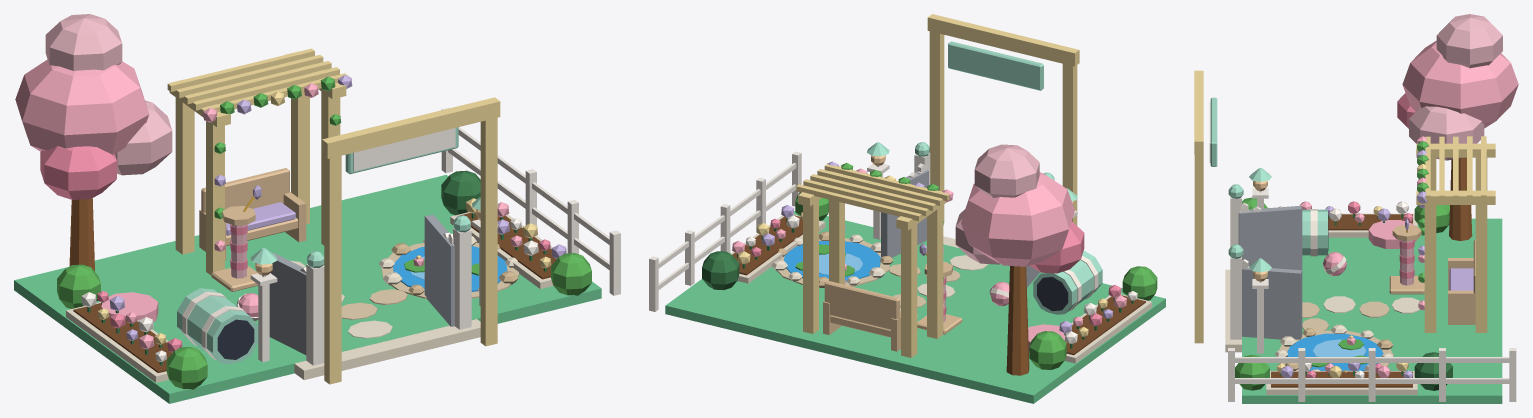
File: CleanACat_Area_Garden.fbx
The picture shows the model from 3 angles, left to right: view 1: azimuth 30°, elevation 25°; view 2: azimuth 150°, elevation 25°; view 3: azimuth 270°, elevation 25°; orthographic projection. The views are drawn at different scales.
Visible parts, largest first — view 1: CleanACat_Area_Garden, CleanACat_Area_Garden_Canopy, CleanACat_Area_Garden_Flowers, CleanACat_Area_Garden_Decor, CleanACat_Area_Garden_Gate_Barrier, CleanACat_Area_Garden_Screen, CleanACat_Area_Garden_Pond; view 2: CleanACat_Area_Garden, CleanACat_Area_Garden_Canopy, CleanACat_Area_Garden_Flowers, CleanACat_Area_Garden_Decor, CleanACat_Area_Garden_Sign_Decor, CleanACat_Area_Garden_Pond, CleanACat_Area_Garden_Gate_Barrier; view 3: CleanACat_Area_Garden, CleanACat_Area_Garden_Canopy, CleanACat_Area_Garden_Gate_Barrier, CleanACat_Area_Garden_Decor, CleanACat_Area_Garden_Flowers, CleanACat_Area_Garden_Pond, CleanACat_Area_Garden_Sign_Decor.
Part boxes in pixels (x1,y1,x2,y2): CleanACat_Area_Garden: (14,48,620,403); CleanACat_Area_Garden_Canopy: (15,14,172,199); CleanACat_Area_Garden_Flowers: (57,75,591,389); CleanACat_Area_Garden_Decor: (101,185,518,364); CleanACat_Area_Garden_Gate_Barrier: (269,215,454,354); CleanACat_Area_Garden_Screen: (353,128,455,171); CleanACat_Area_Garden_Pond: (393,246,507,291); CleanACat_Area_Garden: (649,14,1165,403); CleanACat_Area_Garden_Canopy: (955,144,1084,273); CleanACat_Area_Garden_Flowers: (702,161,1157,369); CleanACat_Area_Garden_Decor: (771,231,1102,350); CleanACat_Area_Garden_Sign_Decor: (948,41,1043,90); CleanACat_Area_Garden_Pond: (784,241,880,281); CleanACat_Area_Garden_Gate_Barrier: (881,170,1040,287); CleanACat_Area_Garden: (1194,70,1516,403); CleanACat_Area_Garden_Canopy: (1397,14,1518,160); CleanACat_Area_Garden_Gate_Barrier: (1238,205,1302,339); CleanACat_Area_Garden_Decor: (1274,209,1473,372); CleanACat_Area_Garden_Flowers: (1235,136,1452,390); CleanACat_Area_Garden_Pond: (1287,333,1383,370); CleanACat_Area_Garden_Sign_Decor: (1210,97,1217,166).
Bounding box in the file's own units: 19.15 × 10.9 × 13.95.
1 material, 1 textured.
